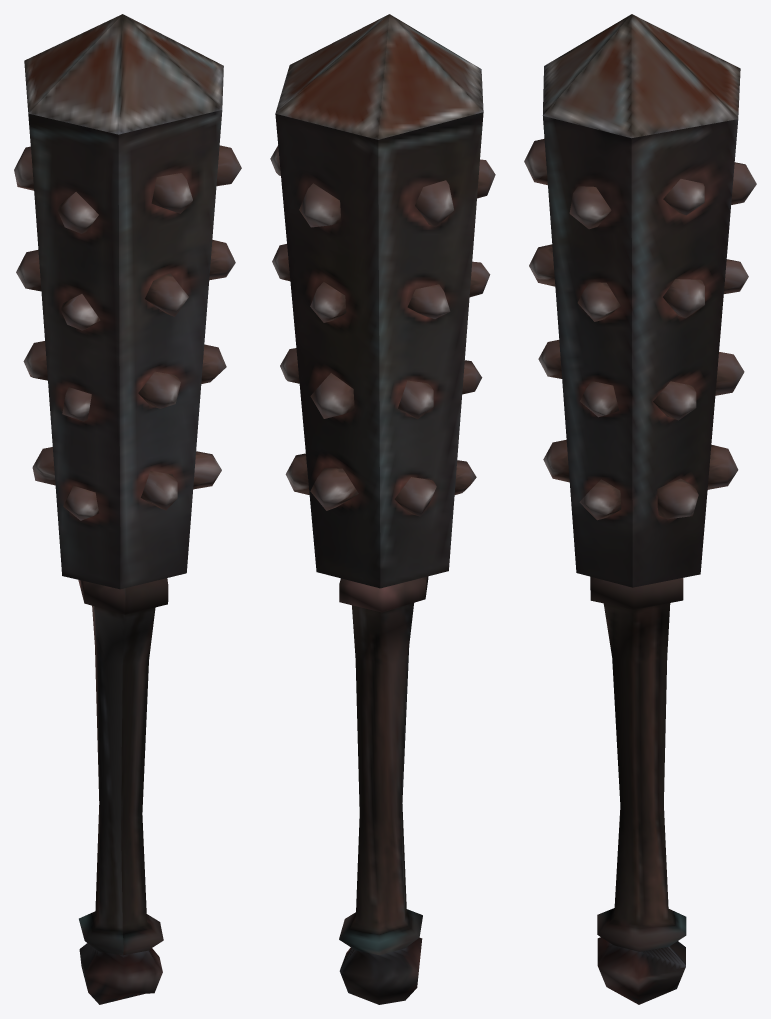
File: WP_1H_Club04.FBX
3 views of the same model, side by side, from view 1: azimuth 30°, elevation 25°; view 2: azimuth 150°, elevation 25°; view 3: azimuth 270°, elevation 25° (orthographic).
Parts seen in each view (by area): view 1: WP_1H_Club04; view 2: WP_1H_Club04; view 3: WP_1H_Club04.
Part boxes in pixels (x1,y1,x2,y2): WP_1H_Club04: [14, 14, 241, 1004]; WP_1H_Club04: [270, 14, 495, 1004]; WP_1H_Club04: [524, 14, 756, 1004].
Size of the model in its own units: 17.54 by 84.75 by 18.29.
